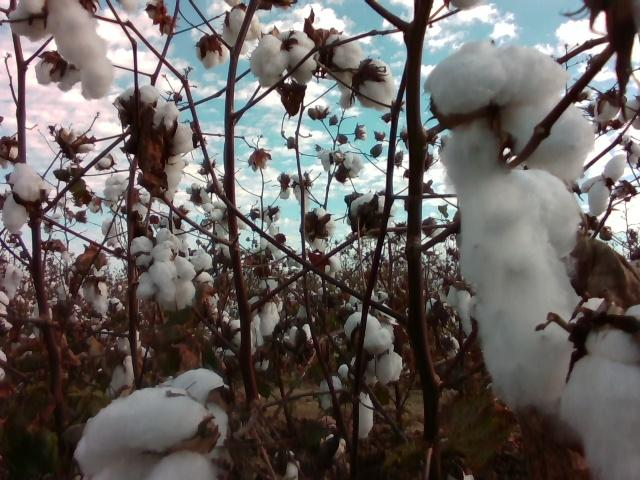cotton_ready: (424, 39, 595, 415), (558, 298, 640, 480), (75, 388, 218, 480), (9, 0, 113, 100), (161, 368, 230, 445), (343, 311, 404, 385), (151, 99, 194, 200), (249, 29, 317, 88), (0, 163, 49, 236), (137, 258, 196, 310), (323, 32, 361, 110), (580, 155, 626, 217), (354, 60, 399, 113), (441, 279, 479, 336), (247, 278, 283, 337), (131, 228, 182, 269), (34, 52, 83, 94), (223, 8, 261, 55), (350, 190, 396, 228), (116, 86, 169, 118), (311, 207, 335, 252), (189, 250, 216, 288), (83, 282, 109, 318), (357, 388, 375, 440), (318, 376, 343, 411), (108, 358, 135, 390), (274, 448, 301, 480), (249, 332, 269, 374), (218, 316, 243, 349), (103, 173, 128, 206), (593, 100, 622, 122), (446, 470, 476, 480)
